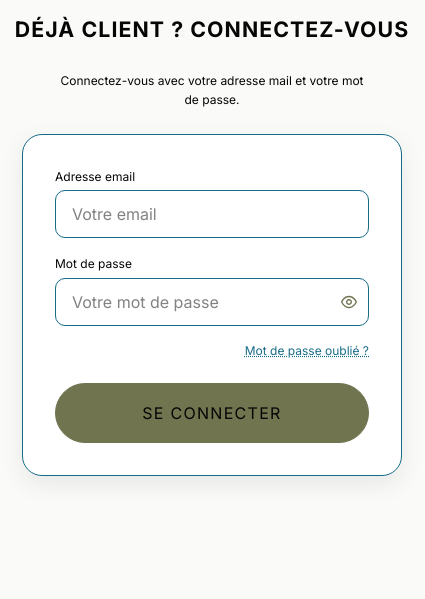
Scenario: LoginForm › shows validation errors when the form is empty
Click the button "Se connecter". click: (212, 413)
box: [55,383,369,443]
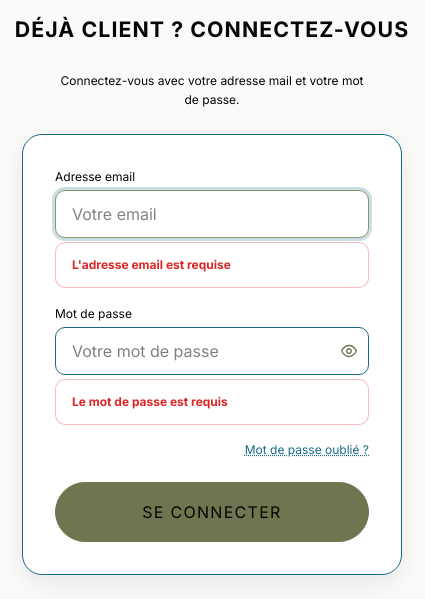
Expected: the text "L'adresse email est requise" is shown, [55,242,369,288]
Expected: the text "Le mot de passe est requis" is shown, [55,379,369,425]
